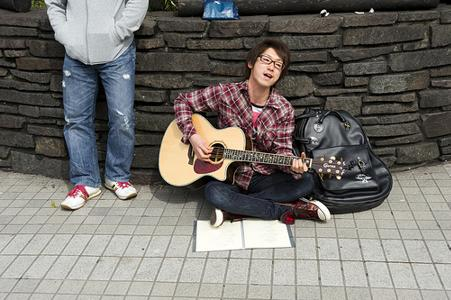person: (174, 39, 332, 230)
